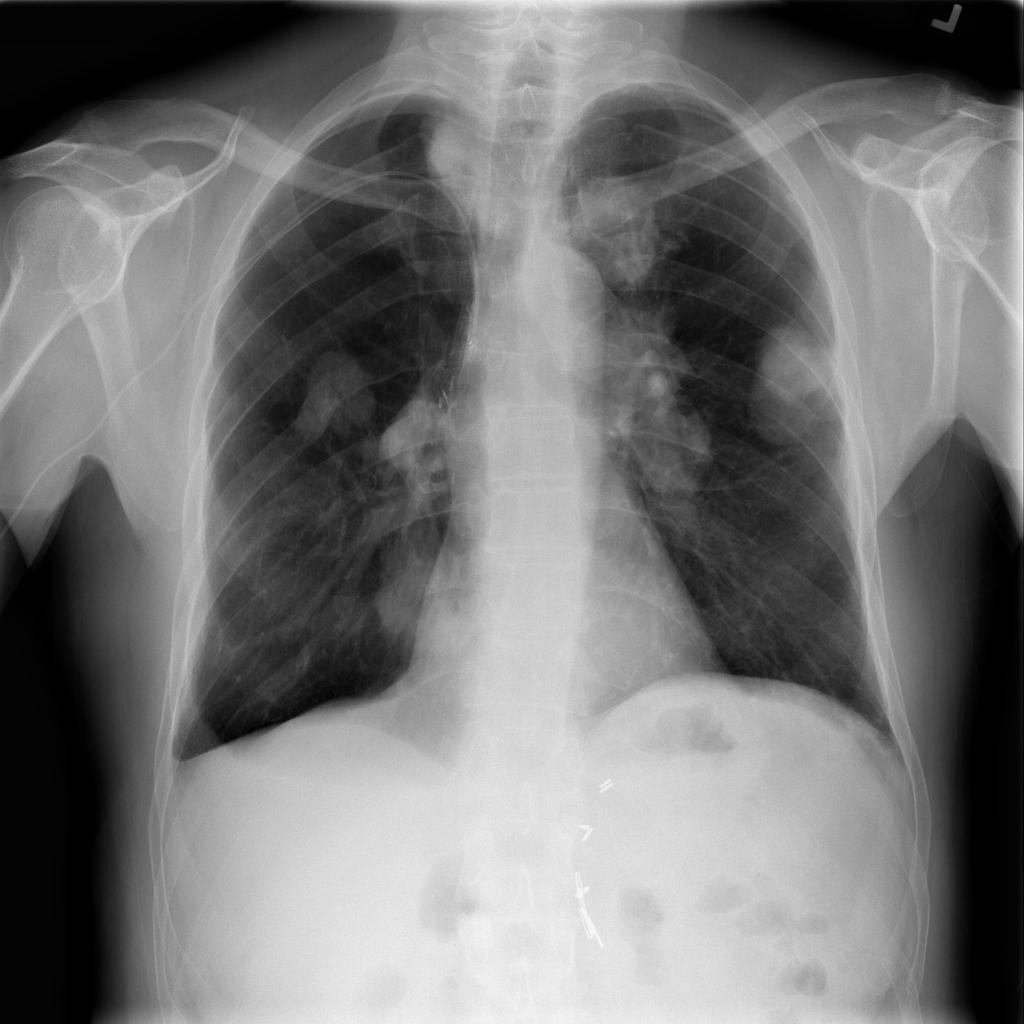nodule: (361, 513, 485, 672), (731, 304, 854, 451), (557, 162, 688, 288), (280, 334, 393, 461)
